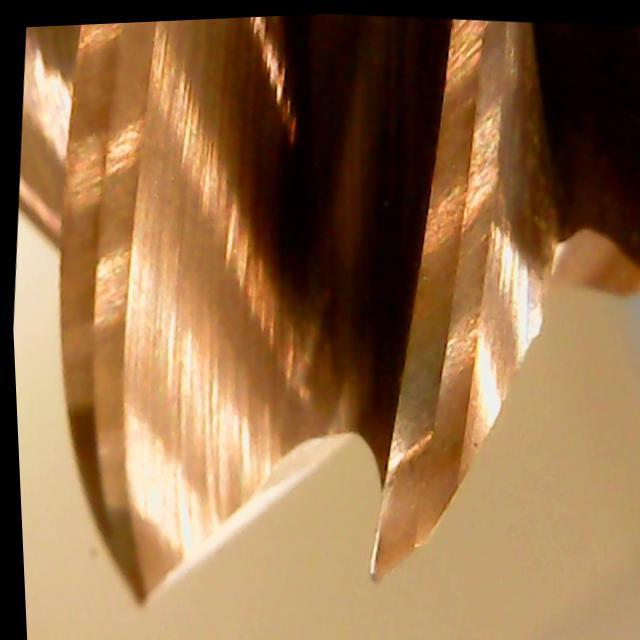Tool-wear-class-0: (337, 195, 515, 592)
